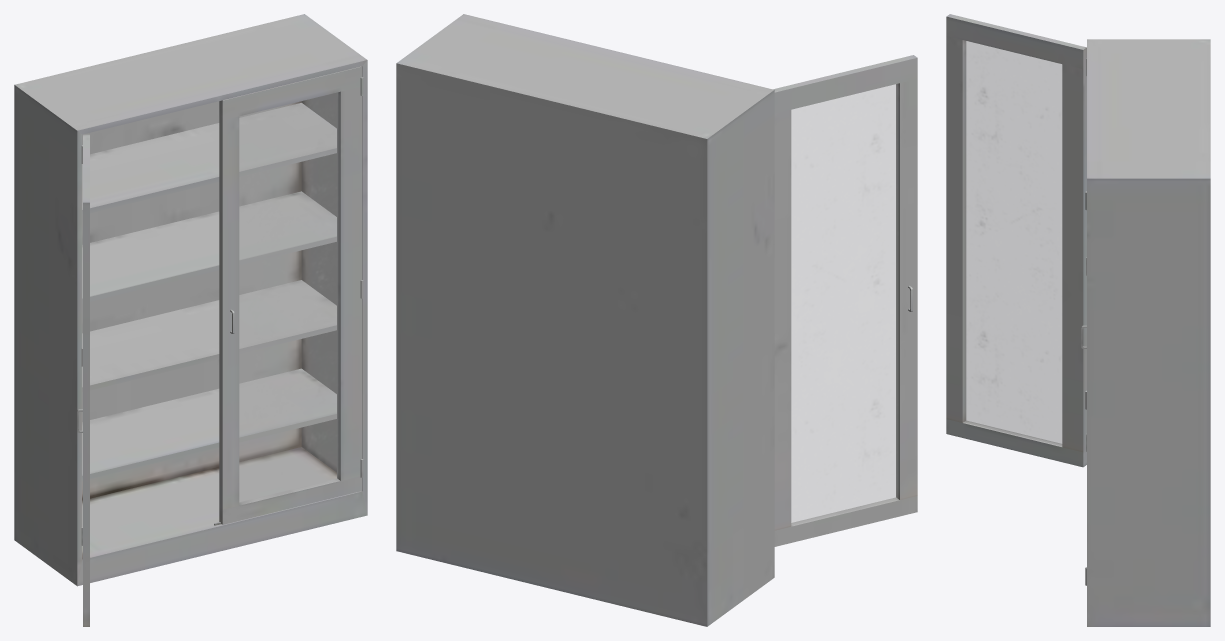
Rendered from lab-cabinet.lod0.glb.
The picture shows the model from 3 angles, left to right: view 1: azimuth 30°, elevation 25°; view 2: azimuth 150°, elevation 25°; view 3: azimuth 270°, elevation 25°; orthographic projection. The views are drawn at different scales.
Visible parts, largest first — view 1: lab_cabinet_body_NakedSingularity_metal_0, lab_cabinet_r_door_NakedSingularity_glass_0; view 2: lab_cabinet_body_NakedSingularity_metal_0, lab_cabinet_r_door_NakedSingularity_glass_0; view 3: lab_cabinet_body_NakedSingularity_metal_0, lab_cabinet_r_door_NakedSingularity_glass_0.
Boxes of the visible parts, bbox=[...] form: lab_cabinet_body_NakedSingularity_metal_0: bbox=[14, 14, 367, 626]; lab_cabinet_r_door_NakedSingularity_glass_0: bbox=[239, 92, 339, 503]; lab_cabinet_body_NakedSingularity_metal_0: bbox=[396, 14, 917, 626]; lab_cabinet_r_door_NakedSingularity_glass_0: bbox=[791, 84, 898, 524]; lab_cabinet_body_NakedSingularity_metal_0: bbox=[946, 14, 1210, 626]; lab_cabinet_r_door_NakedSingularity_glass_0: bbox=[964, 40, 1061, 445].
Bounding box in the file's own units: 1.47 × 1.8 × 0.9612.
2 materials, 2 textured.
